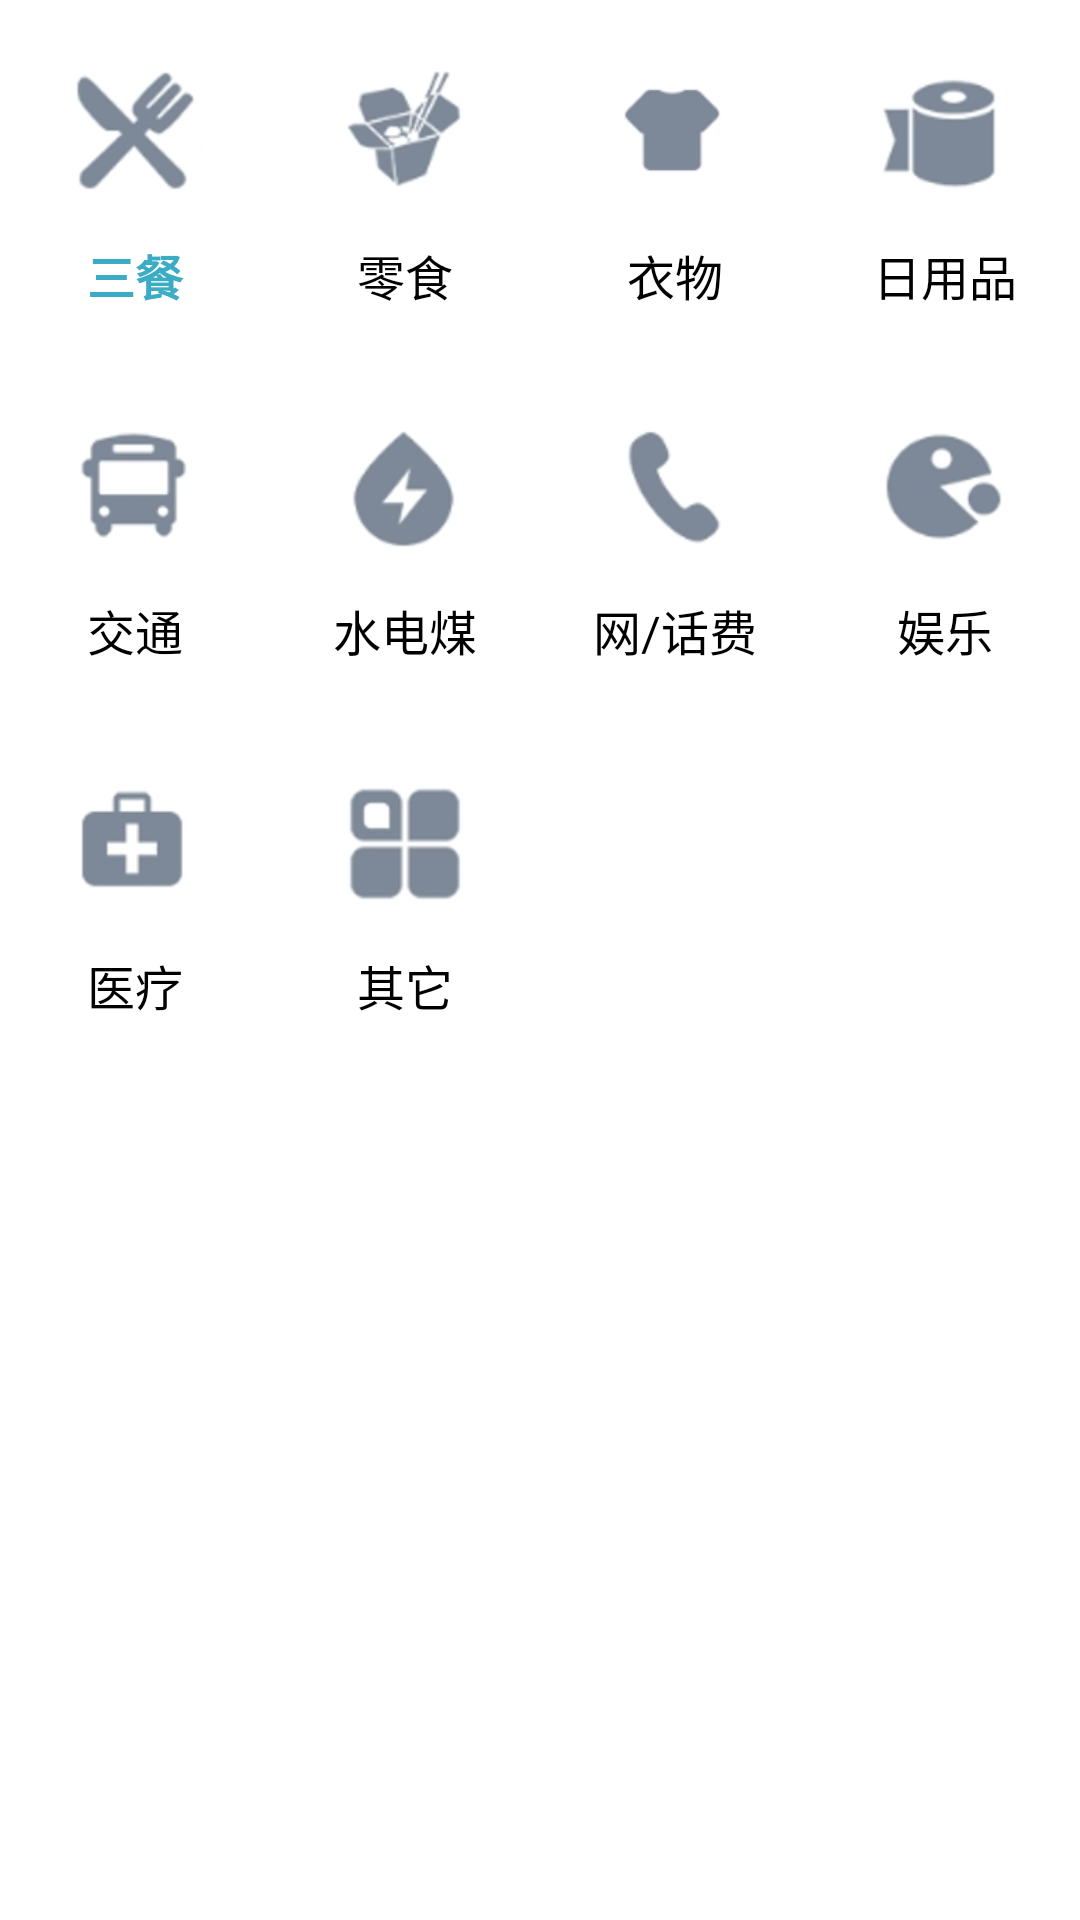

Where to tap for icons on this 1080×1920 app screen, as [x,y]:
clothing: [672,130]
daily necessaries: [939,133]
meal: [135,131]
medical treatment: [132,839]
other: [405,844]
snack: [404,129]
transportation: [133,485]
waters: [403,489]
